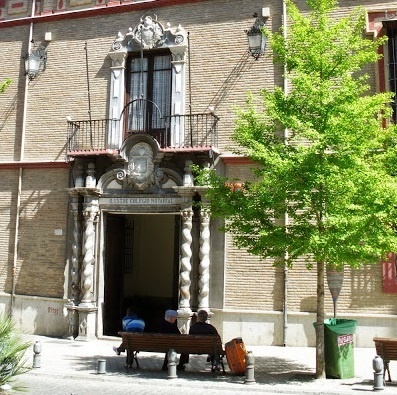columna-salomonica: (76, 217, 100, 308), (176, 212, 195, 318), (194, 209, 212, 310)
fronton-partido: (94, 169, 183, 198)
vano-adintelado: (96, 197, 180, 337), (117, 42, 177, 152)
